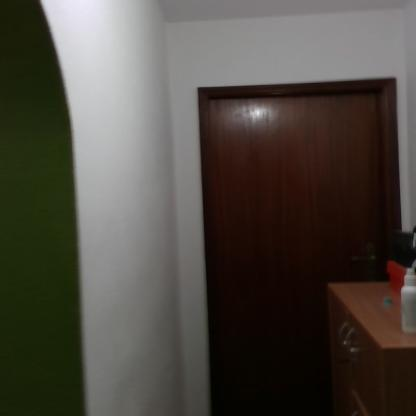door: (210, 99, 391, 416)
lever: (348, 255, 382, 267)
